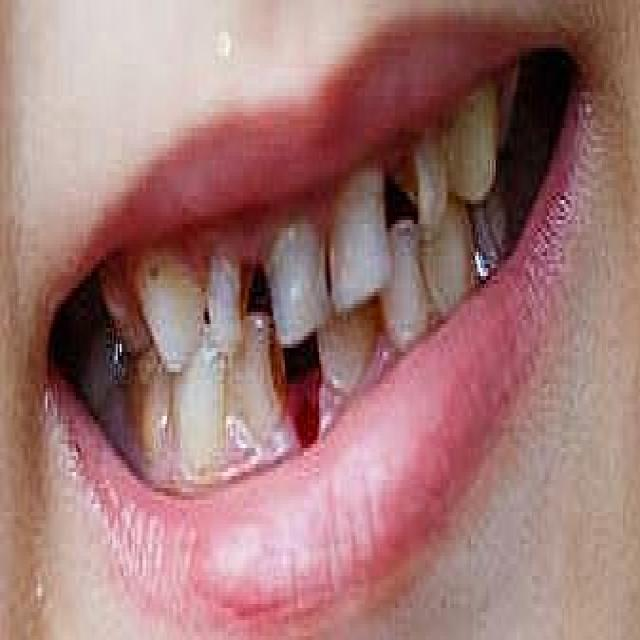caries: (385, 133, 431, 222), (258, 319, 294, 415), (227, 250, 262, 341)
